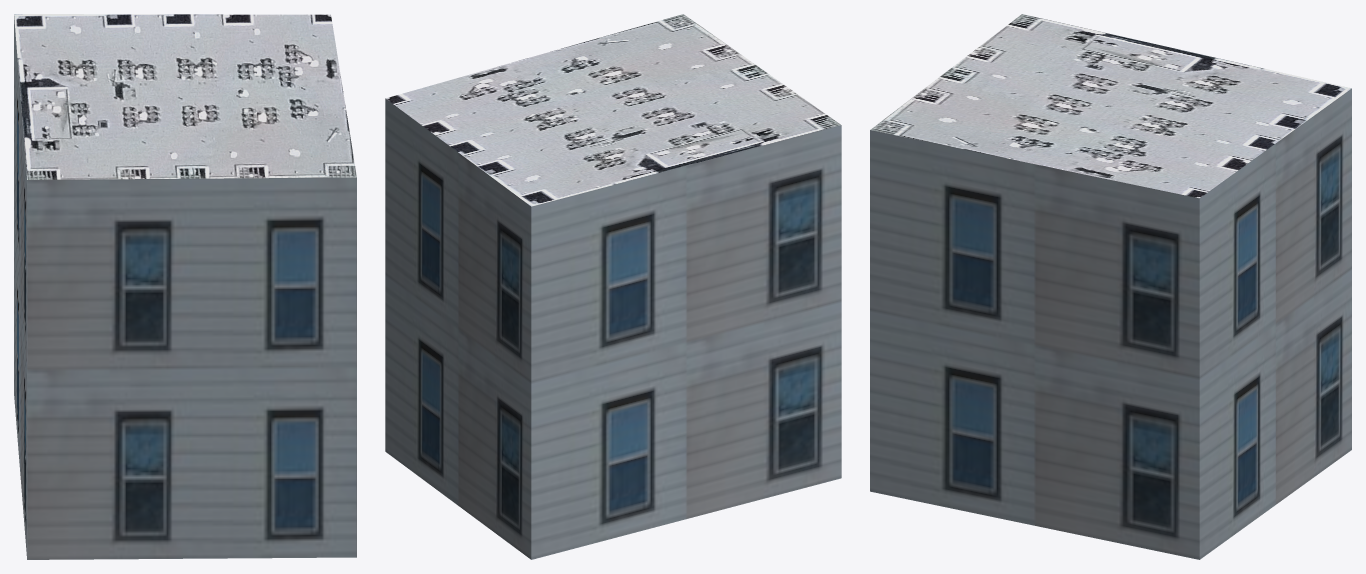
File: ResTex__639.fbx
3 renders of one model, left to right at view 1: azimuth 30°, elevation 25°; view 2: azimuth 150°, elevation 25°; view 3: azimuth 270°, elevation 25°, orthographic. The views are drawn at different scales.
Parts seen in each view (by area): view 1: CityEngineMaterial_18_m, CityEngineMaterial_m; view 2: CityEngineMaterial_18_m, CityEngineMaterial_m; view 3: CityEngineMaterial_18_m, CityEngineMaterial_m.
Part boxes in pixels (x1,y1,x2,y2): CityEngineMaterial_18_m: (14,16,356,559); CityEngineMaterial_m: (14,14,356,179); CityEngineMaterial_18_m: (385,98,841,559); CityEngineMaterial_m: (386,14,840,206); CityEngineMaterial_18_m: (870,88,1351,559); CityEngineMaterial_m: (870,14,1351,198).
Bounding box in the file's own units: 6.56 × 6 × 7.25.
2 materials, 2 textured.
